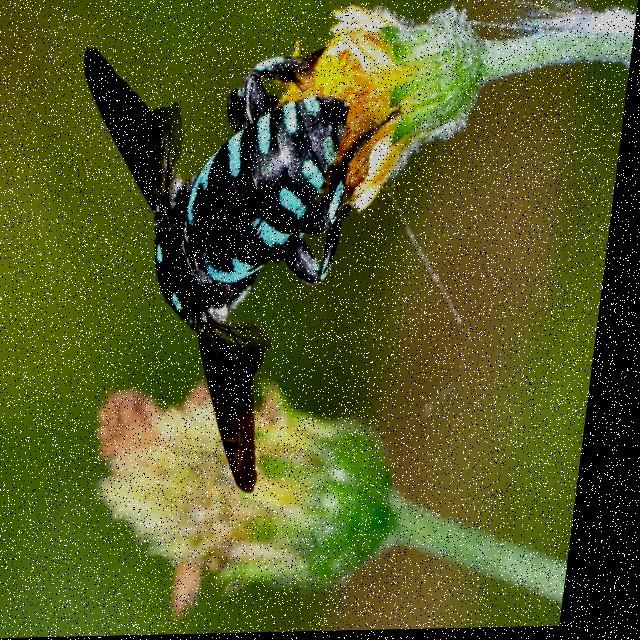Thyreus: (32, 24, 417, 506)
